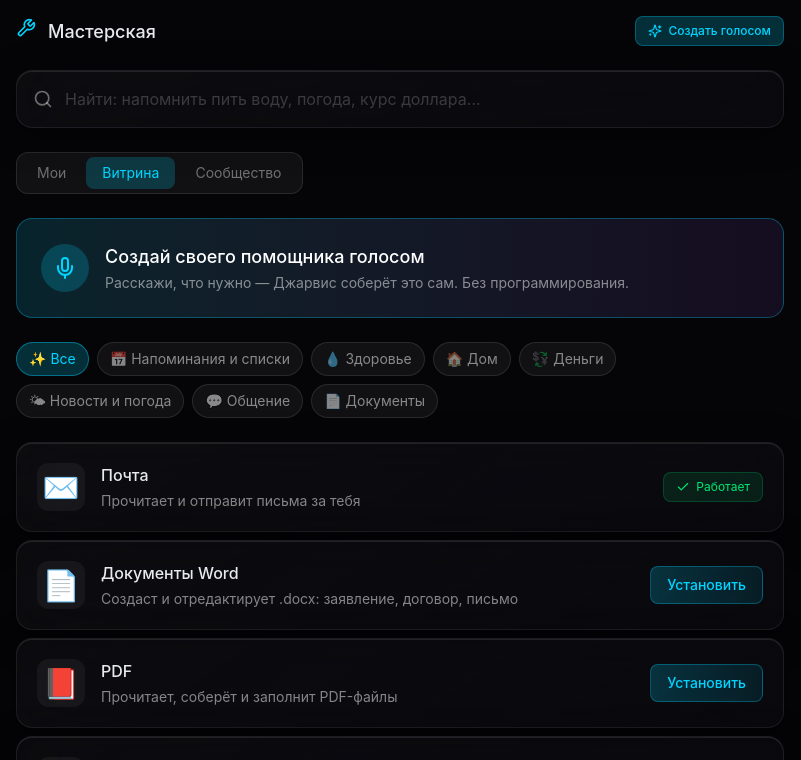
Test case: AgentStore (Мастерская) › Мои: revoked агент → Разрешить снова → loadAgent → «Работает» (M2.2)
Step 1. Click the button "Мои" → (52, 173), box [21,157,82,189]
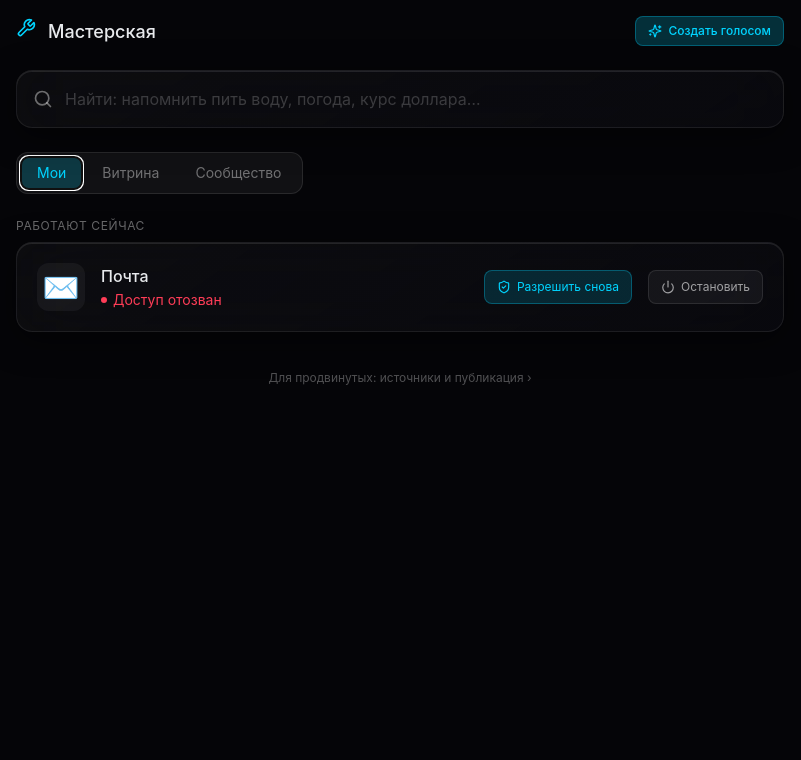
Expected: the text "Почта" shows "Доступ отозван", [113,291,222,308]
Step 2. Click the button "Разрешить снова" → (558, 287), box [484,270,632,304]
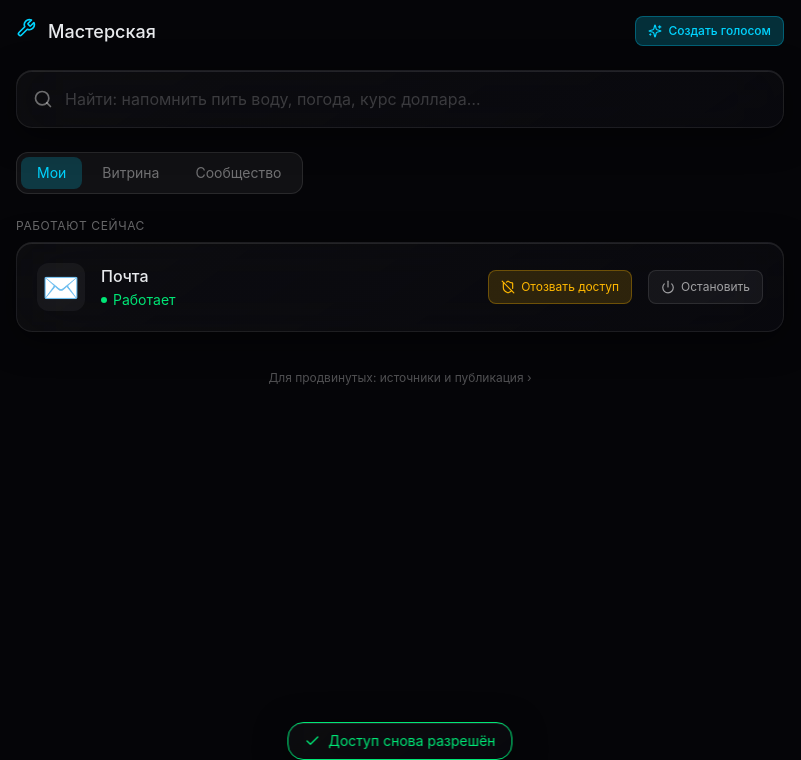
Expected: the text "Почта" shows "Работает", [113,291,176,308]
